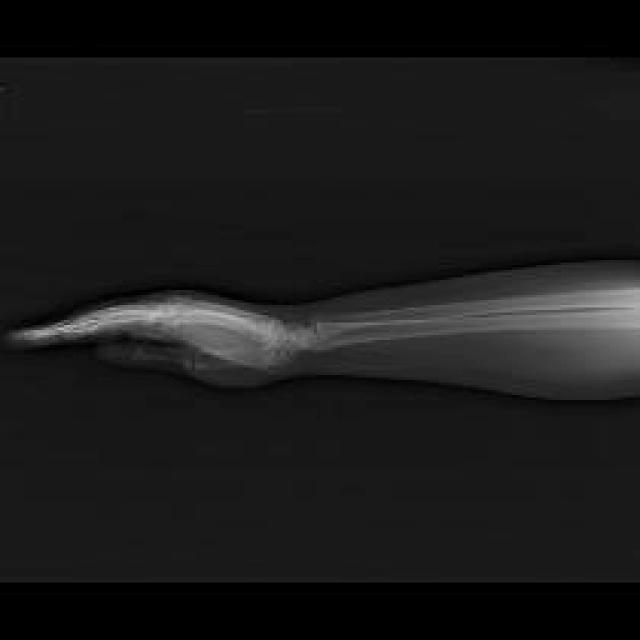normal: (8, 289, 638, 372)
